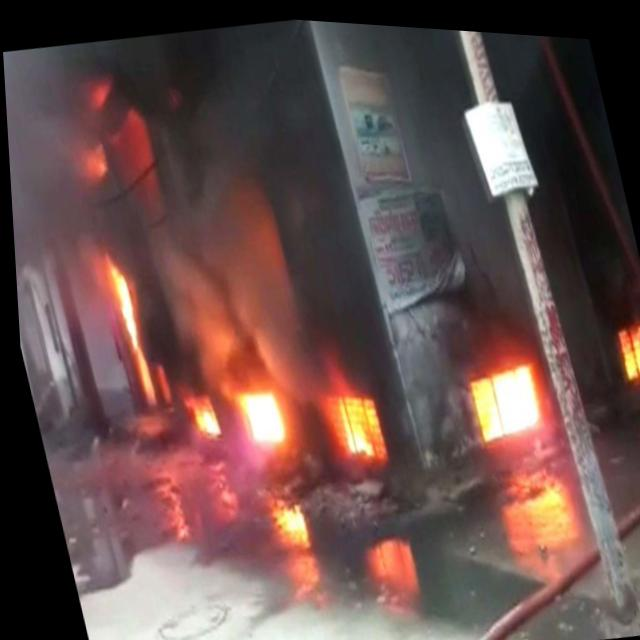fire: (97, 242, 155, 407), (457, 343, 546, 448), (311, 360, 391, 473), (225, 366, 287, 451), (257, 485, 312, 553), (64, 128, 113, 191), (604, 297, 640, 380), (175, 383, 219, 445), (74, 62, 118, 118)
